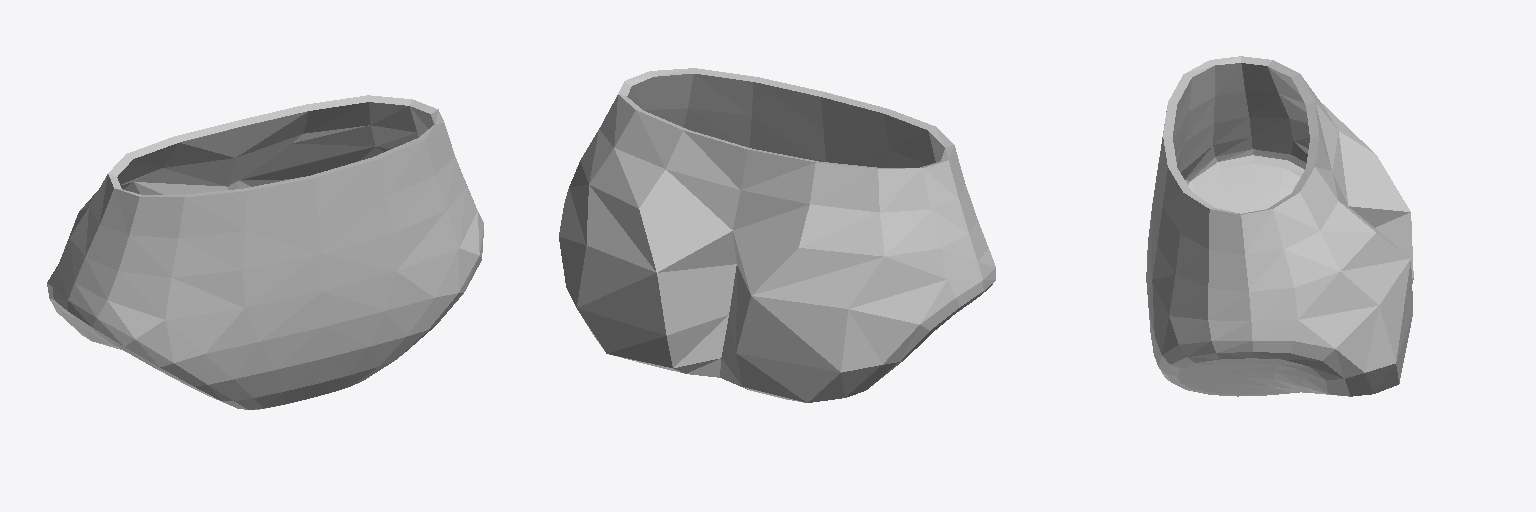
File: CharaGreenKofta2.obj
3 views of the same model, side by side, from view 1: azimuth 30°, elevation 25°; view 2: azimuth 150°, elevation 25°; view 3: azimuth 270°, elevation 25° (orthographic).
Parts seen in each view (by area): view 1: Cube.008_Cube.009; view 2: Cube.008_Cube.009; view 3: Cube.008_Cube.009.
Part boxes in pixels (x1,y1,x2,y2): Cube.008_Cube.009: (47,95,483,409); Cube.008_Cube.009: (559,68,995,402); Cube.008_Cube.009: (1146,56,1413,396).
Size of the model in its own units: 0.4793 by 0.2807 by 0.2749.